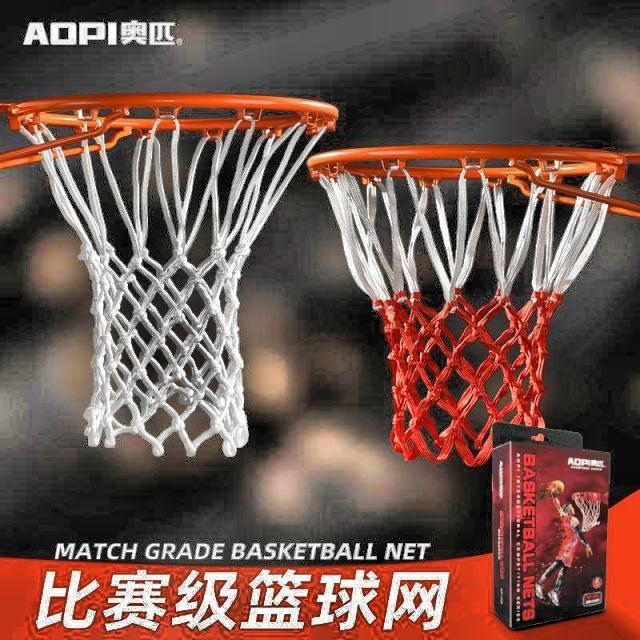rim: (10, 92, 335, 456), (307, 145, 624, 468)
